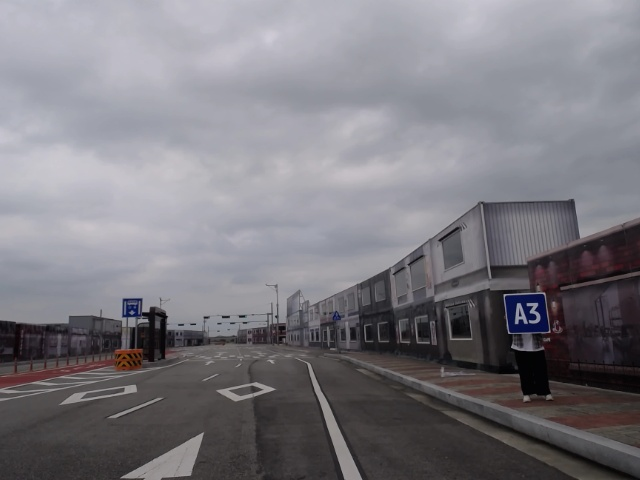delivery_a3: (504, 293, 550, 334)
